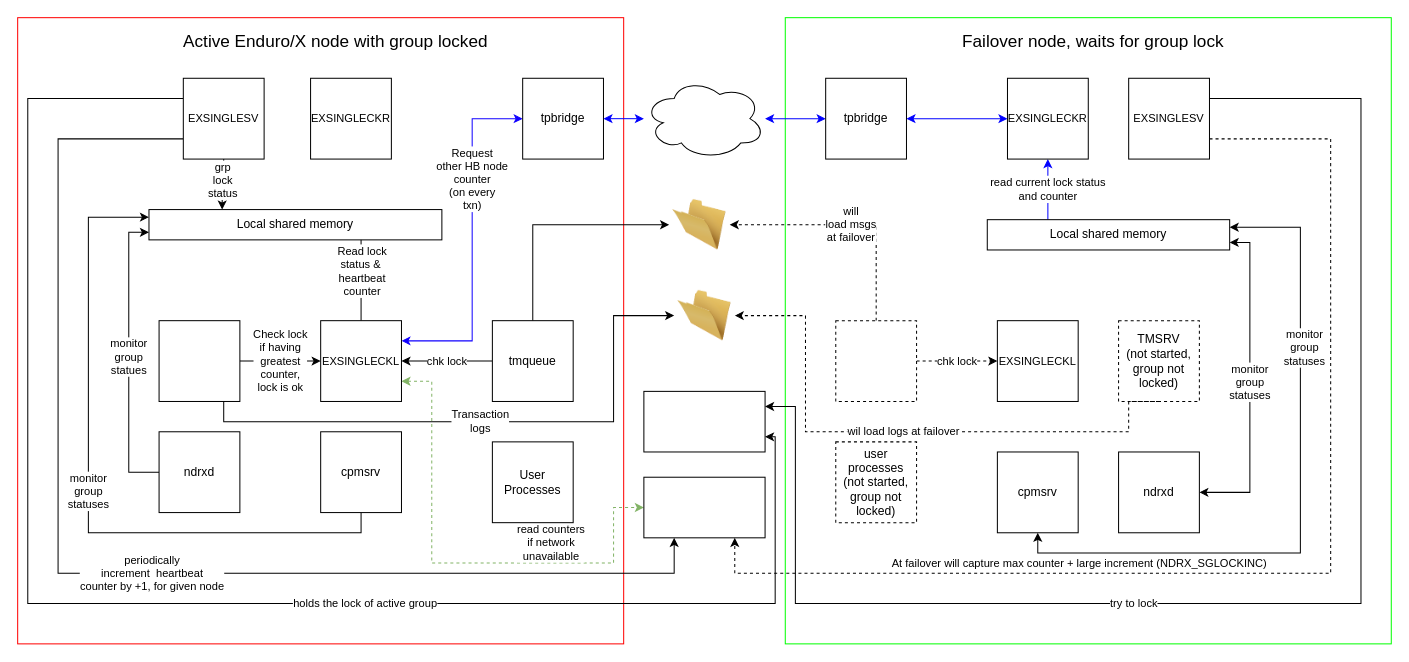
The diagram is 1409 pixels wide and 662 high, and some of its shapes have lost their labels. Here are the shapes that lost their labels. From the top down, the centre of each, then its label:
At point (704, 118): "Network".
At point (699, 224): "Queue space (shared fs)".
At point (704, 315): "transaction logs (shared fs)".
At point (199, 360): "TMSRV".
At point (876, 360): "tmqueue (not started, group not locked)".
At point (704, 421): "lock file 1 (shared fs)".
At point (704, 507): "lock file 2 (heartbeat) (shared fs)".
